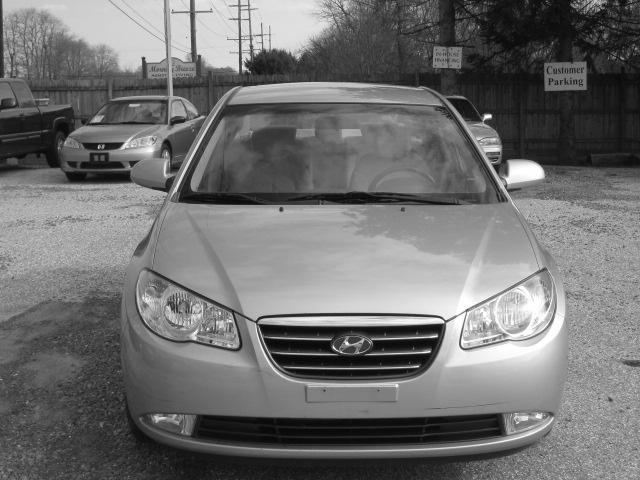car: (121, 87, 567, 465)
